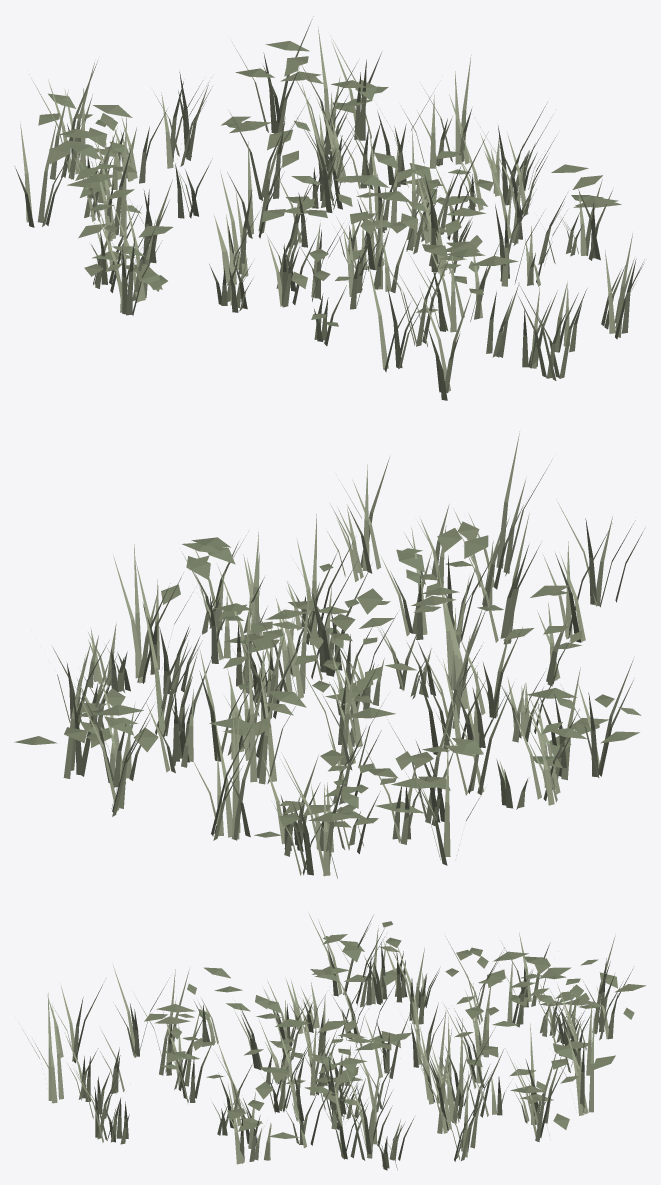
The model's file is AE_Encroachment_16.fbx.
3 views of the same model, one above another, from view 1: azimuth 30°, elevation 25°; view 2: azimuth 150°, elevation 25°; view 3: azimuth 270°, elevation 25° (orthographic). The views are drawn at different scales.
Parts seen in each view (by area): view 1: AE_Encroachment_16_LOD0; view 2: AE_Encroachment_16_LOD0; view 3: AE_Encroachment_16_LOD0.
Boxes of the visible parts, left/top/right/bottom form: AE_Encroachment_16_LOD0: left=14, top=16, right=644, bottom=400; AE_Encroachment_16_LOD0: left=14, top=431, right=644, bottom=878; AE_Encroachment_16_LOD0: left=22, top=913, right=645, bottom=1170.
Size of what is drawn, in the model's own units: 425 by 98.03 by 583.
